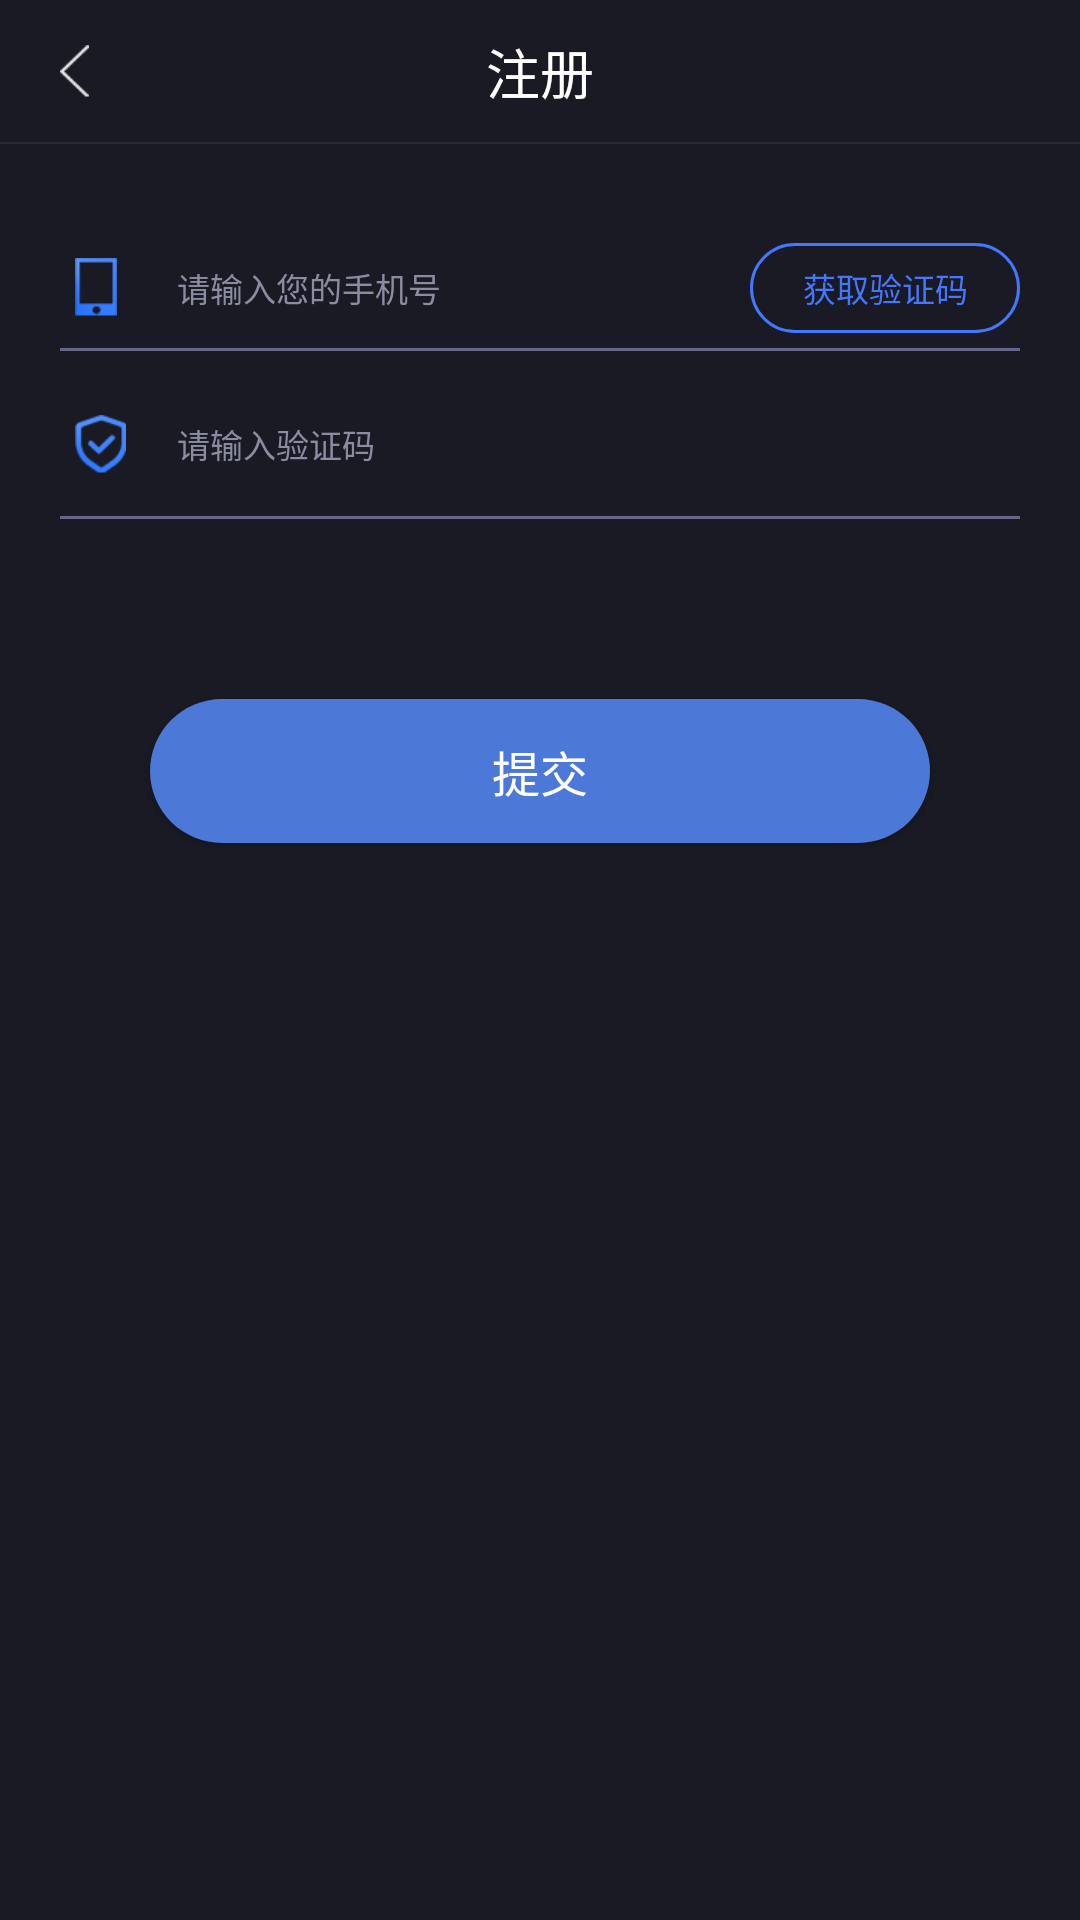

Where to tap for icons on this 1080w x 1920h app screen, as (x=x, y=y):
back: (x=74, y=71)
